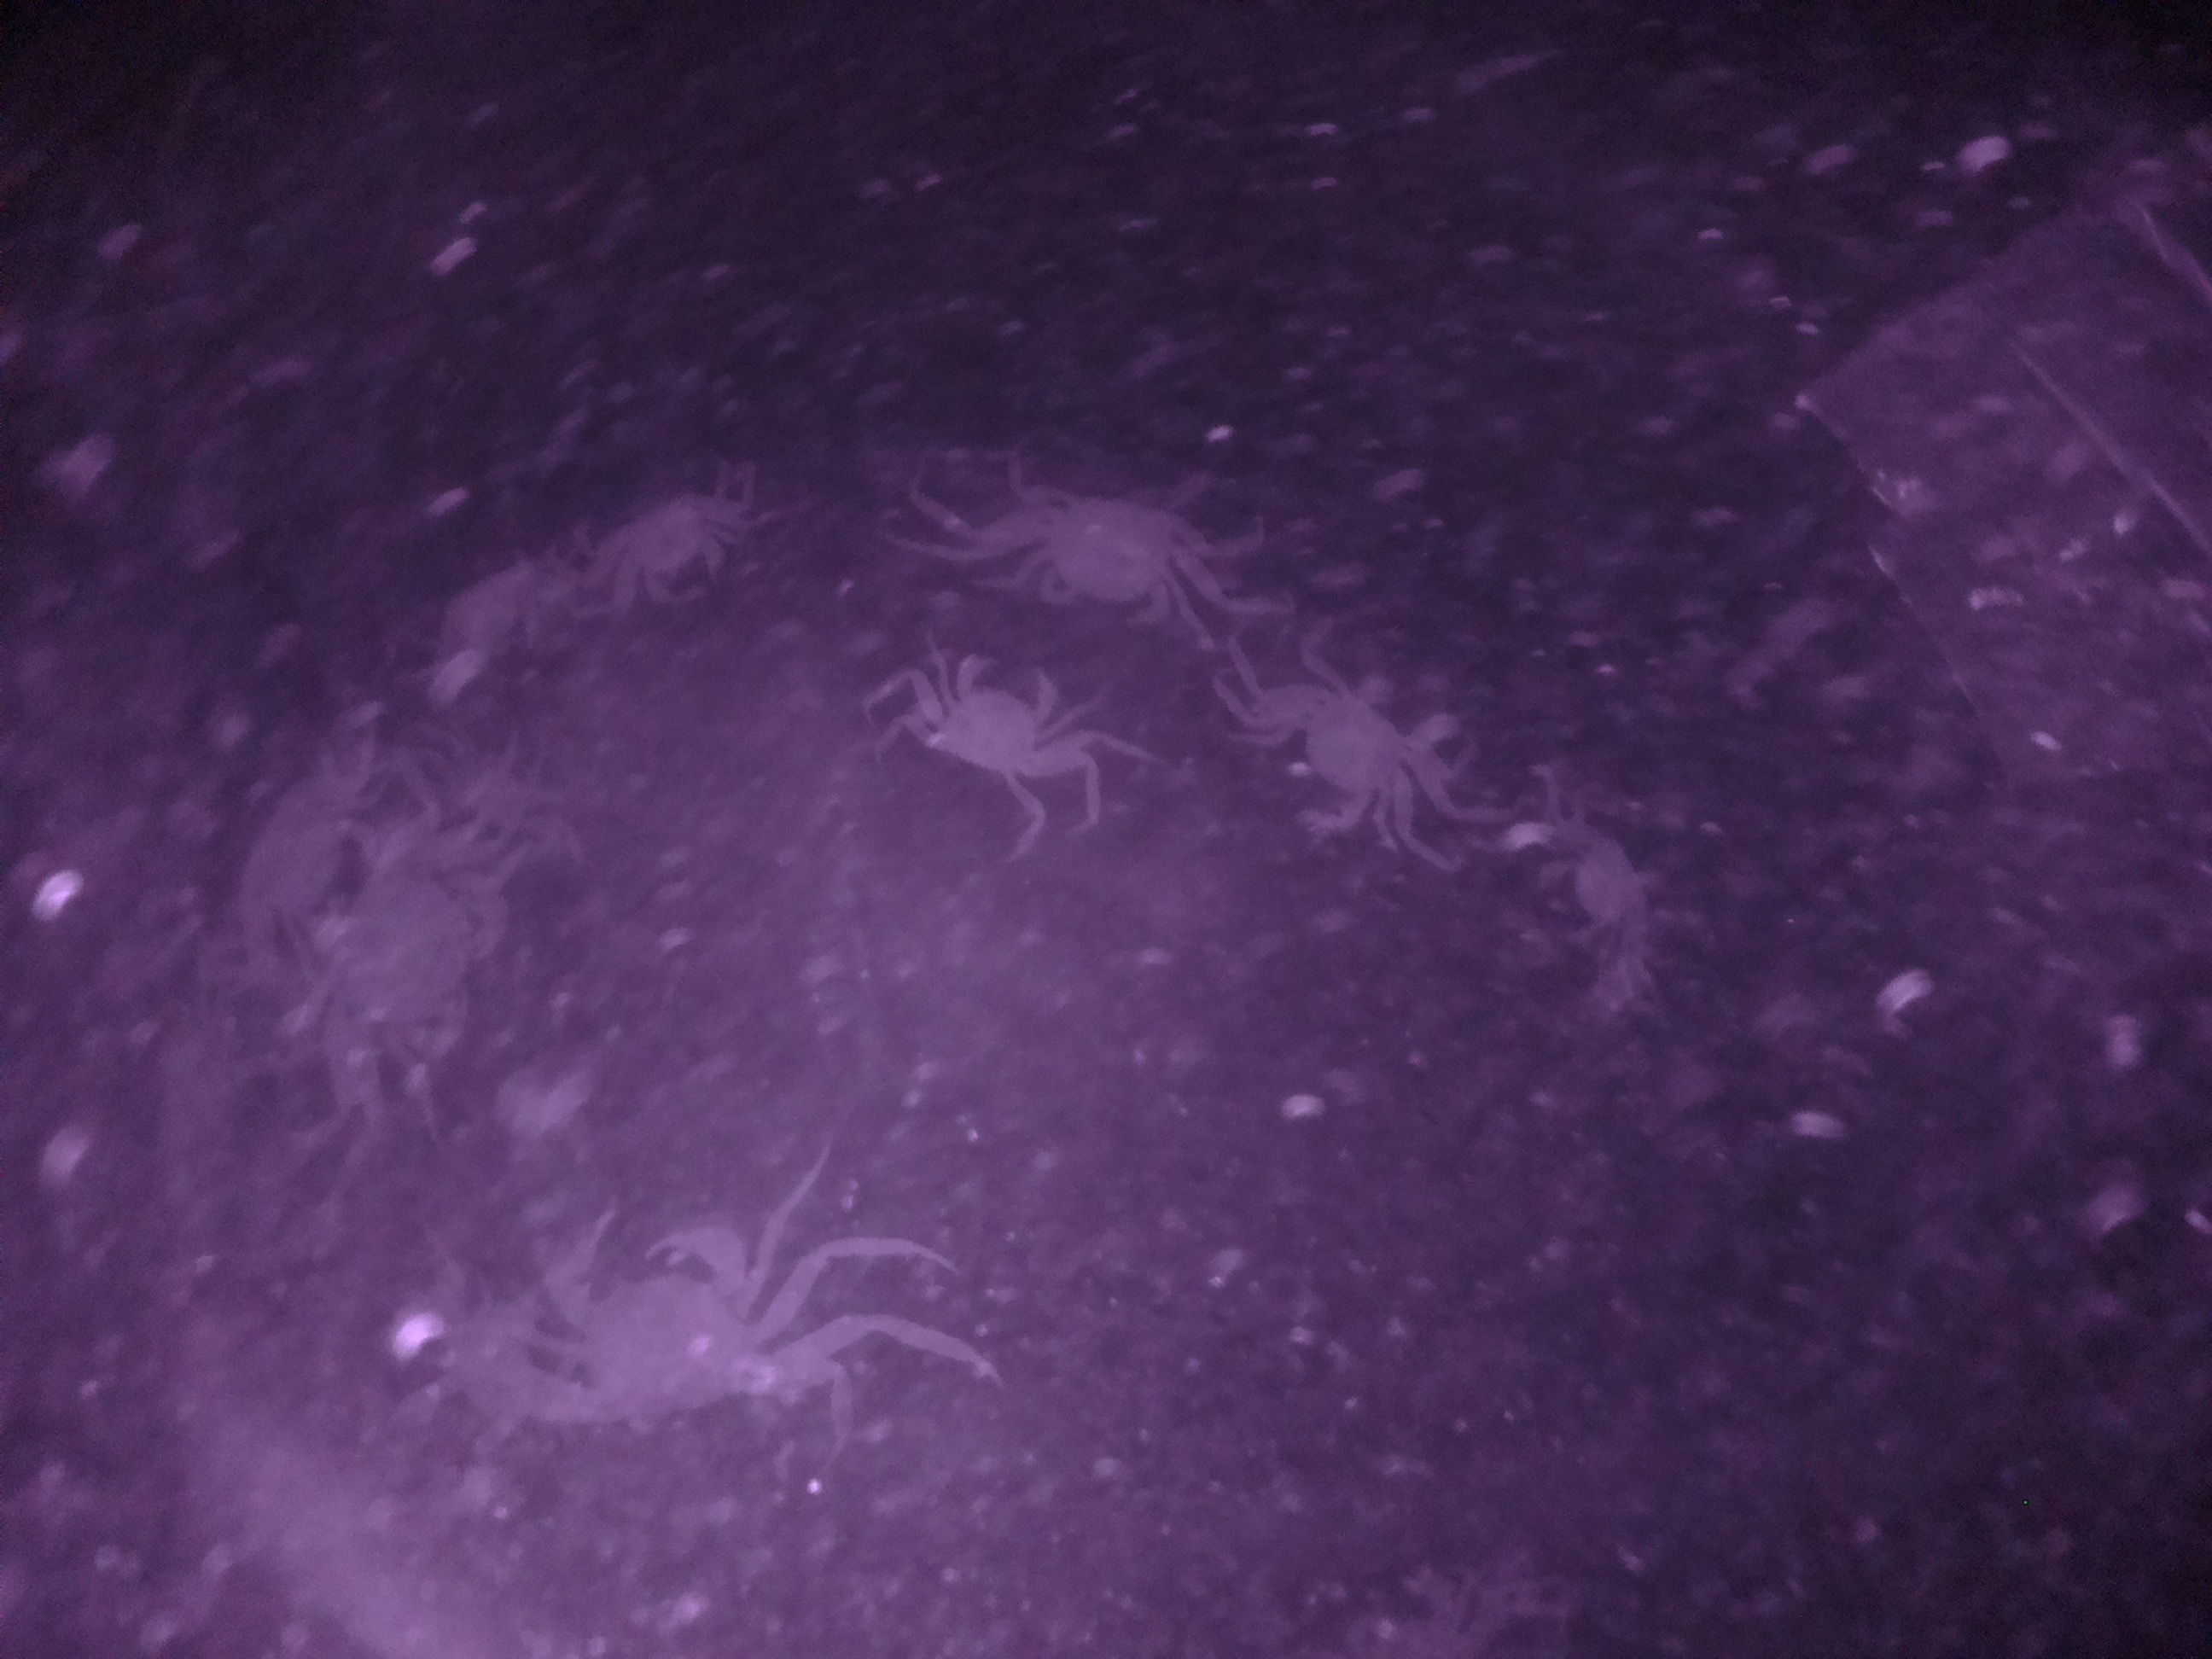Crab: (895, 636, 1075, 810)
